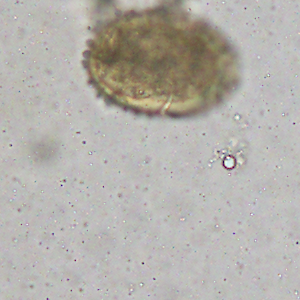Fasciola_hepatica_egg: (80, 5, 245, 120)
